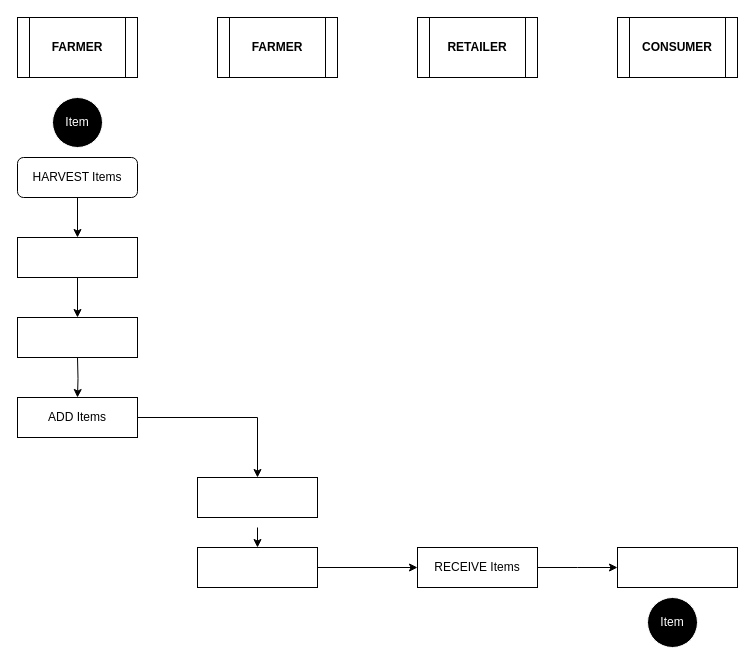
The diagram is 755 pixels wide and 665 high, and some of its shapes have lost their labels. The centre of each missing label's shape, as x and y in pixels:
BUY Items: point (257, 497)
PACK Items: point (77, 337)
PROCESS Items: point (77, 257)
PURCHASE Items: point (677, 567)
SHIP Items: point (257, 567)
